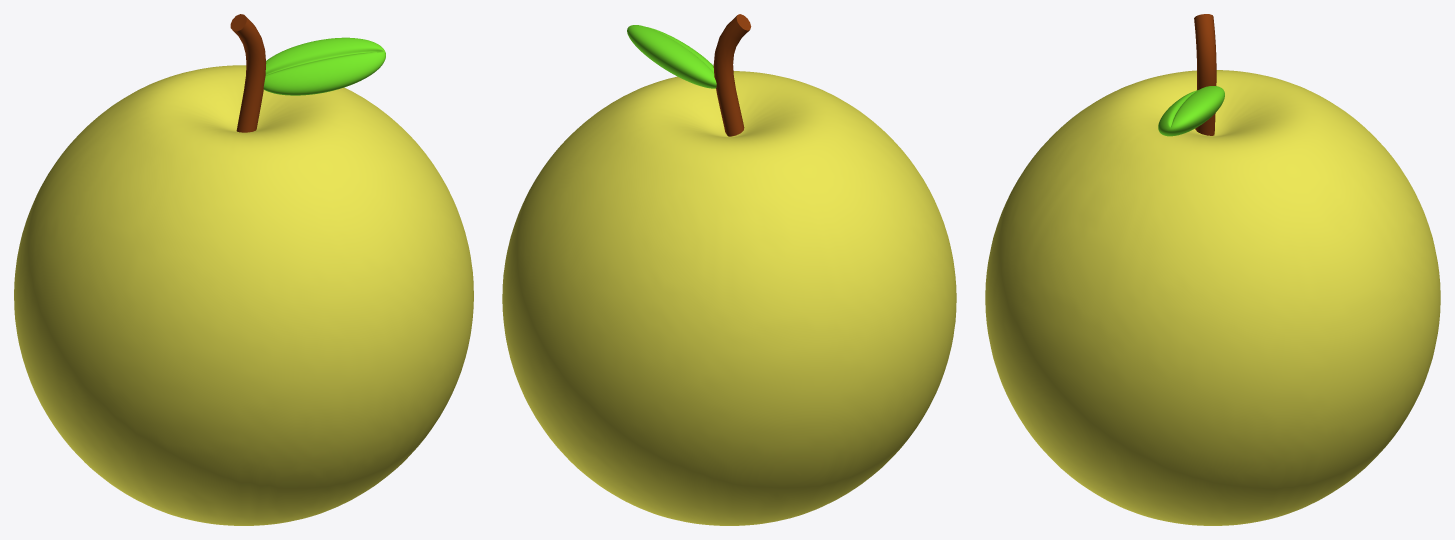
File: ModelApple_yellow.glb
3 views of the same model, side by side, from view 1: azimuth 30°, elevation 25°; view 2: azimuth 150°, elevation 25°; view 3: azimuth 270°, elevation 25° (orthographic).
Parts seen in each view (by area): view 1: Sphere.008, Sphere.009, BezierCurve.004; view 2: Sphere.008, Sphere.009, BezierCurve.004; view 3: Sphere.008, Sphere.009, BezierCurve.004.
Boxes of the visible parts, x1=… form: Sphere.008: x1=14, y1=65, x2=473, y2=525; Sphere.009: x1=263, y1=37, x2=385, y2=95; BezierCurve.004: x1=230, y1=14, x2=266, y2=132; Sphere.008: x1=502, y1=71, x2=956, y2=525; Sphere.009: x1=627, y1=25, x2=716, y2=88; BezierCurve.004: x1=713, y1=14, x2=751, y2=136; Sphere.008: x1=985, y1=70, x2=1440, y2=525; Sphere.009: x1=1158, y1=86, x2=1224, y2=136; BezierCurve.004: x1=1194, y1=14, x2=1216, y2=135.
Bounding box in the file's own units: 0.2359 × 0.2687 × 0.2359.
